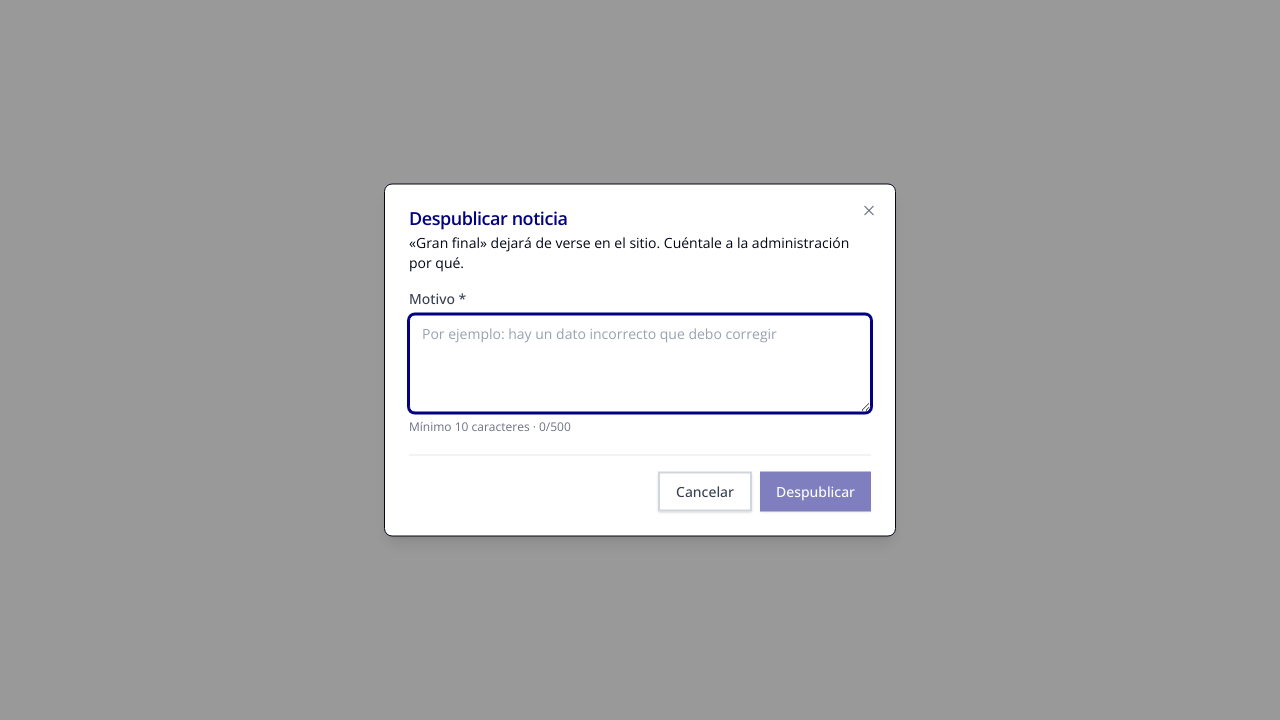
Scenario: diálogo de motivo al despublicar › no deja confirmar con menos de 10 caracteres y muestra el contador
This screenshot has width=1280, height=720.
Check: the button "Despublicar" is disabled, box [760,472,871,512]
In the text box labelled "Motivo *": coordinates (640, 364) [409,314,871,412], type "muy corto"
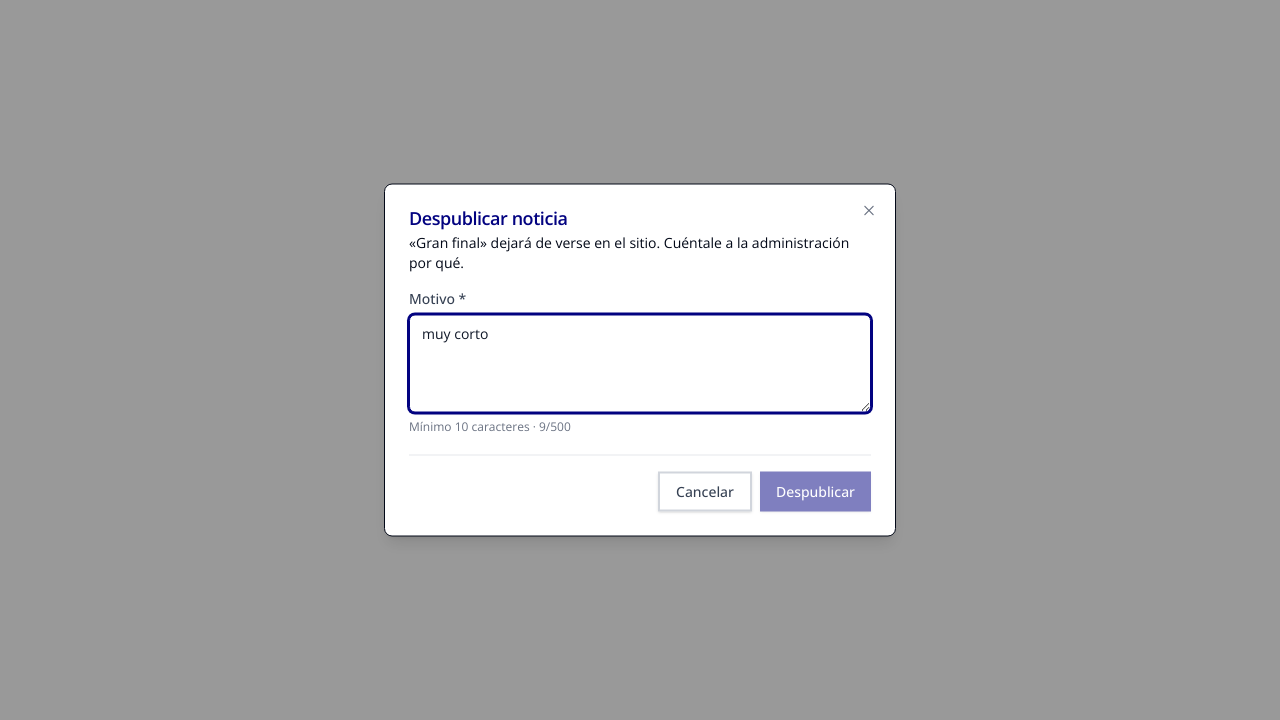
Check: the button "Despublicar" is disabled, box [760,472,871,512]
Check: the text "Mínimo 10 caracteres · 9/500" is shown, box [409,418,571,434]
